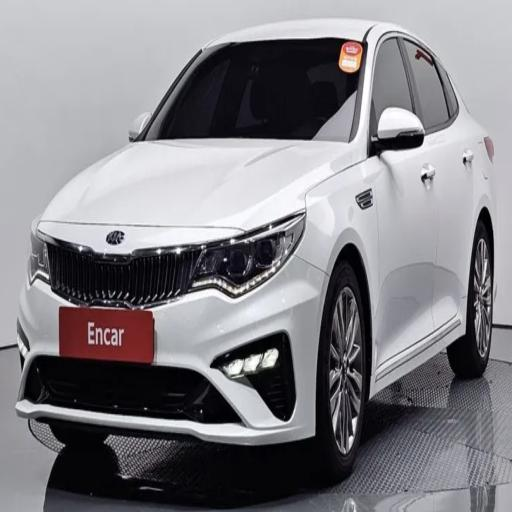normal: (10, 6, 508, 481)
